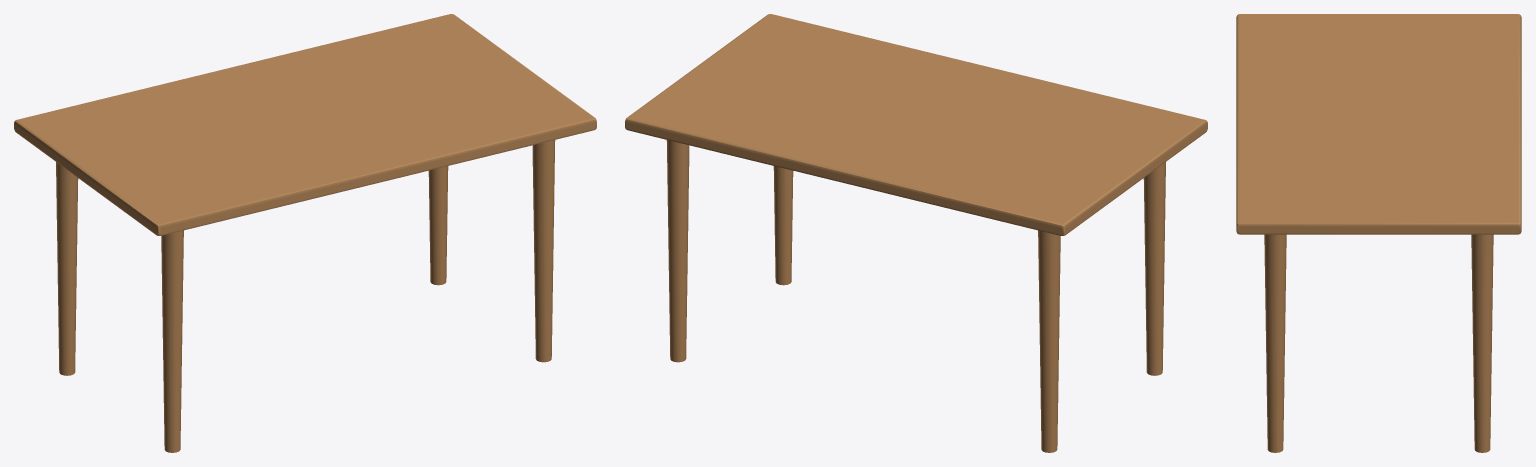
File: table-dining-4.glb
3 renders of one model, left to right at view 1: azimuth 30°, elevation 25°; view 2: azimuth 150°, elevation 25°; view 3: azimuth 270°, elevation 25°, orthographic.
Parts seen in each view (by area): view 1: table-dining-4; view 2: table-dining-4; view 3: table-dining-4.
Part boxes in pixels (x1,y1,x2,y2): table-dining-4: (14, 14, 596, 452); table-dining-4: (625, 14, 1207, 452); table-dining-4: (1236, 14, 1521, 452).
Size of the model in its own units: 1.4 by 0.75 by 0.8.
